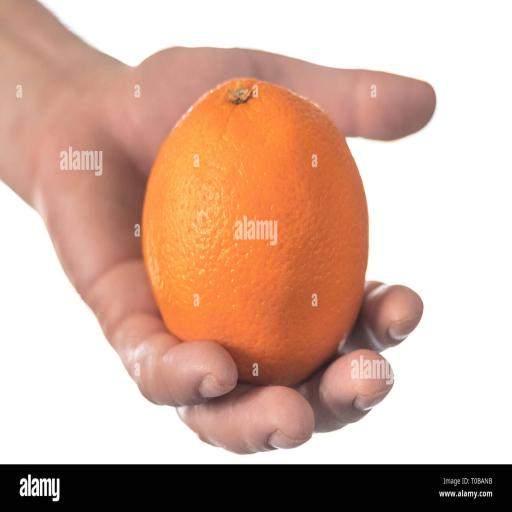orange: (143, 80, 368, 385)
